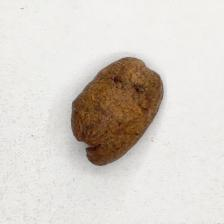NG: (69, 103, 108, 166), (110, 70, 145, 98)
